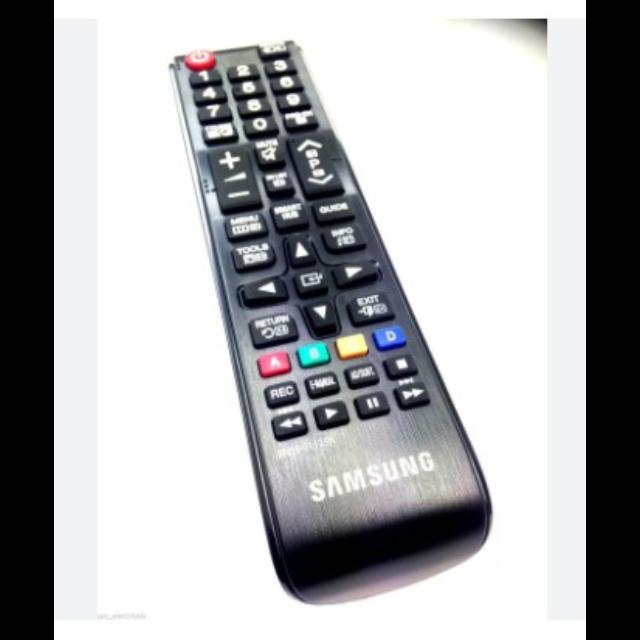TV-Remote-Control: (169, 39, 494, 609)
